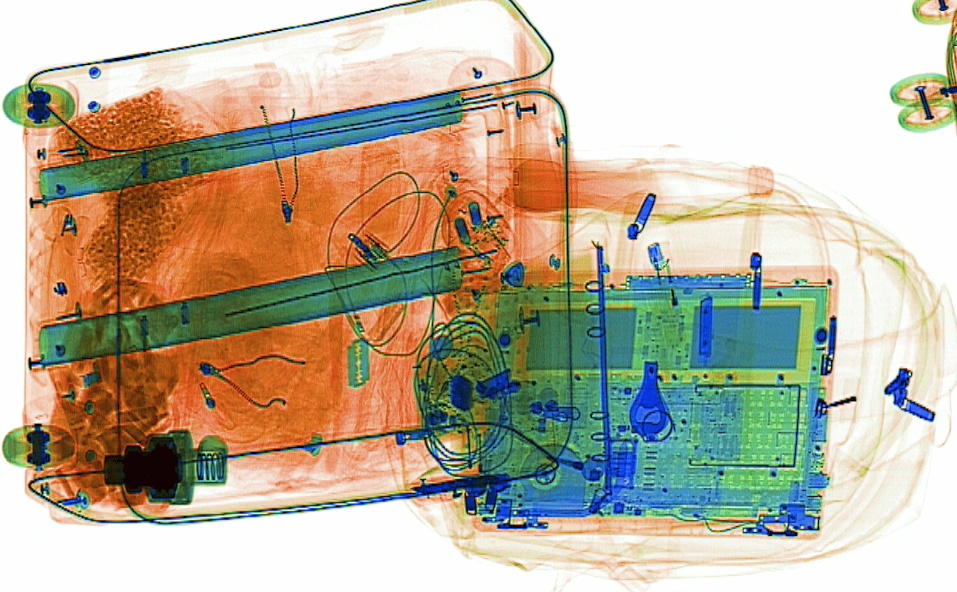knife: (347, 337, 371, 391)
lighter: (644, 235, 692, 351)
